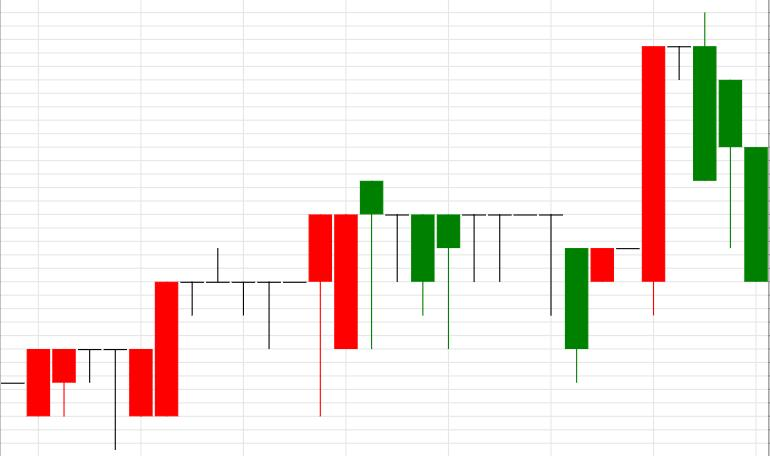hanging_man_fall: (28, 181, 384, 448)
